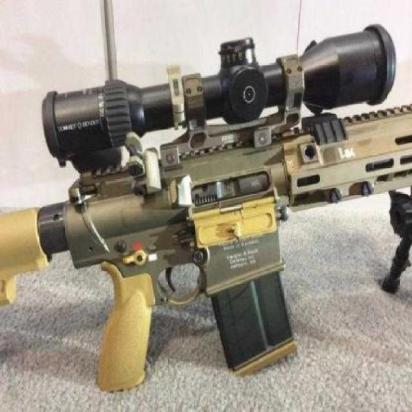Gun: (0, 15, 406, 406)
